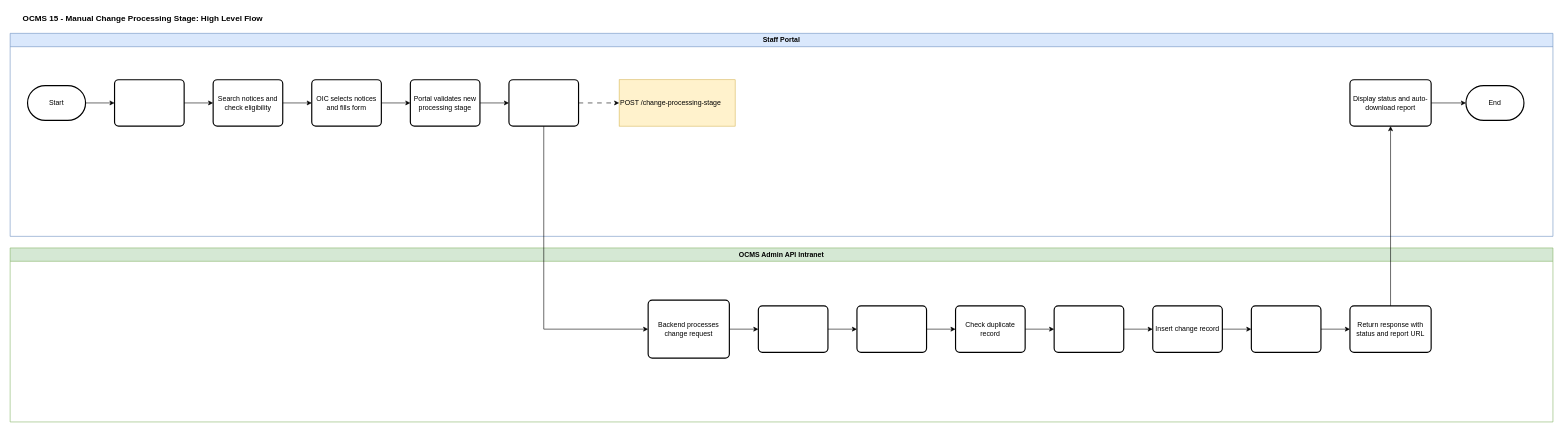
The diagram is 1563 pixels wide and 432 high, and some of its shapes have lost their labels. The shapes that lost their labels are listed below. From the top down, each one's centre as x and y in pixels, then its label:
[149,102]: OIC launches Change Processing Stage module
[543,102]: Submit to OCMS Backend API
[792,329]: Validate request
[891,329]: Check VON exists
[1088,329]: Update VON processing stage
[1285,329]: Generate report
